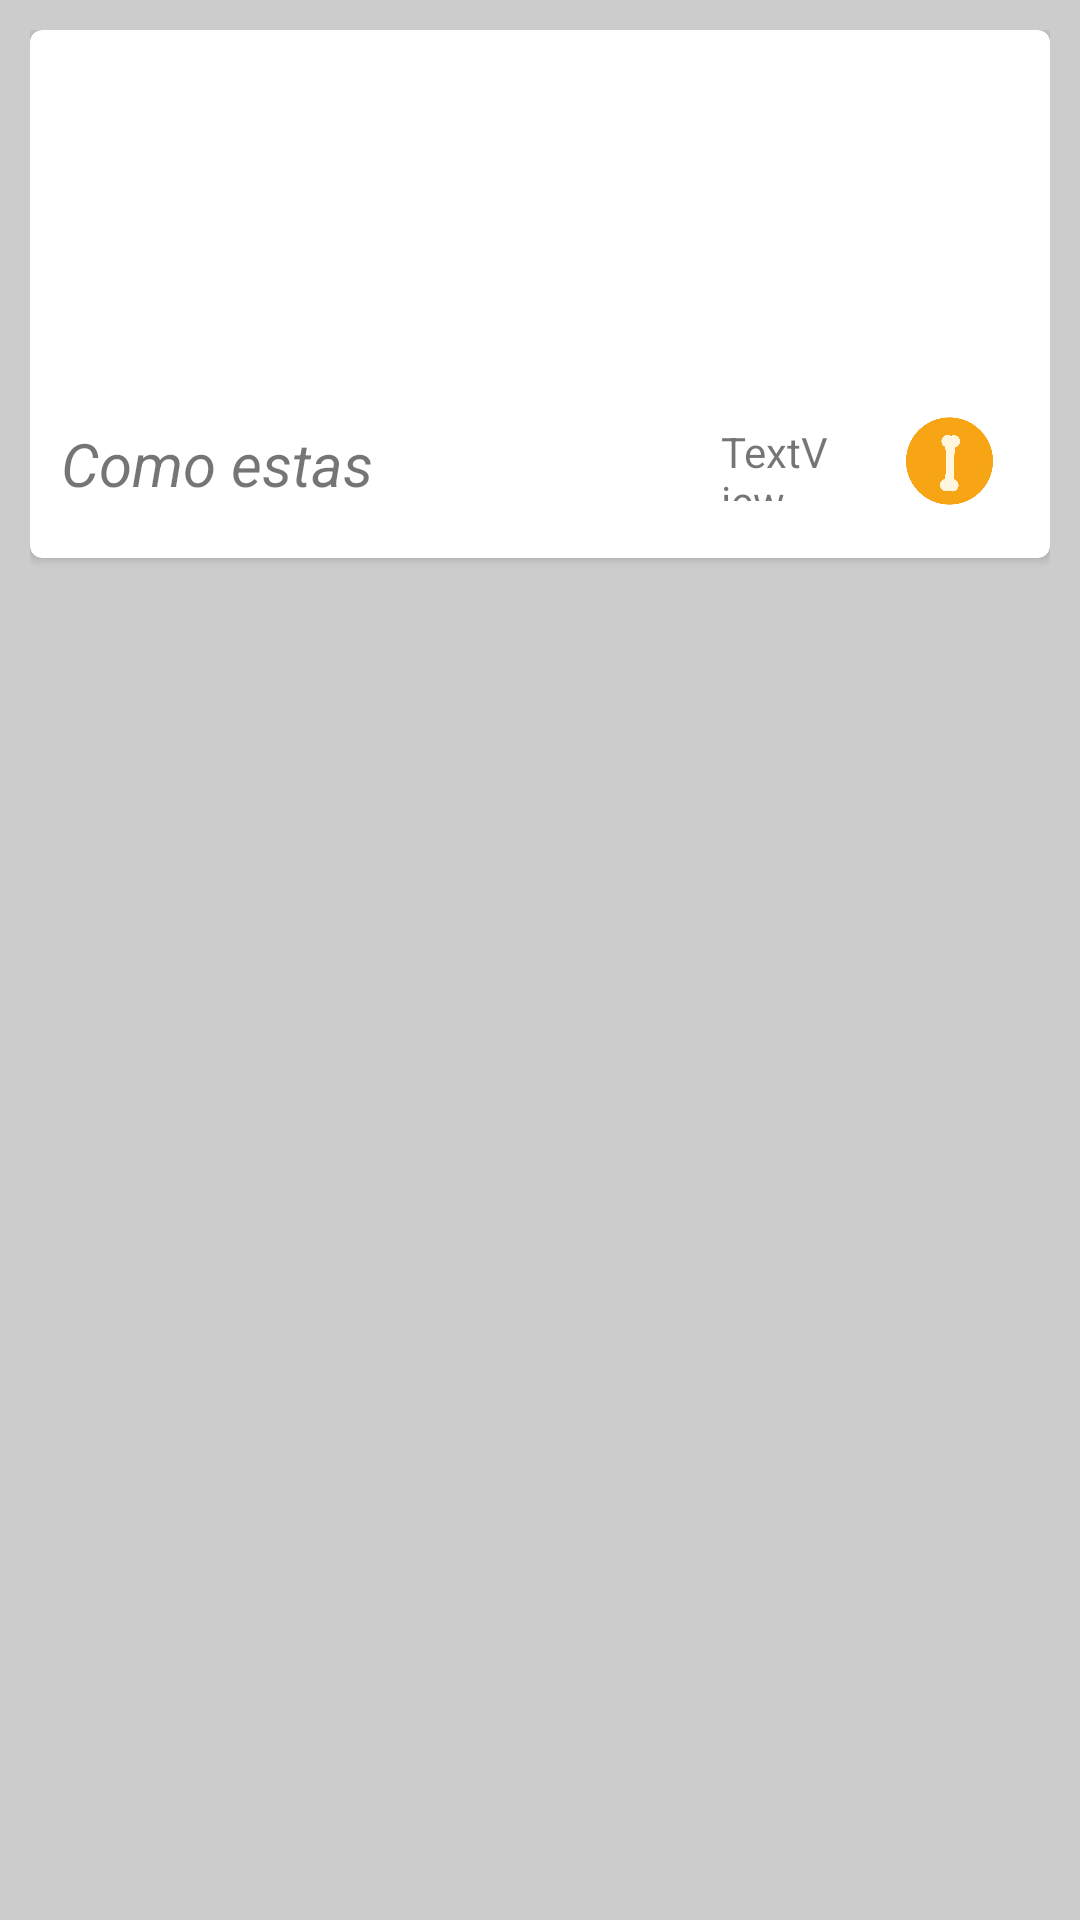

Named icons in this screenshot (1080 x 1920) and their bounding boxes, (x1, y1, x2, y2):
huesodorado: (906, 417, 993, 505)
